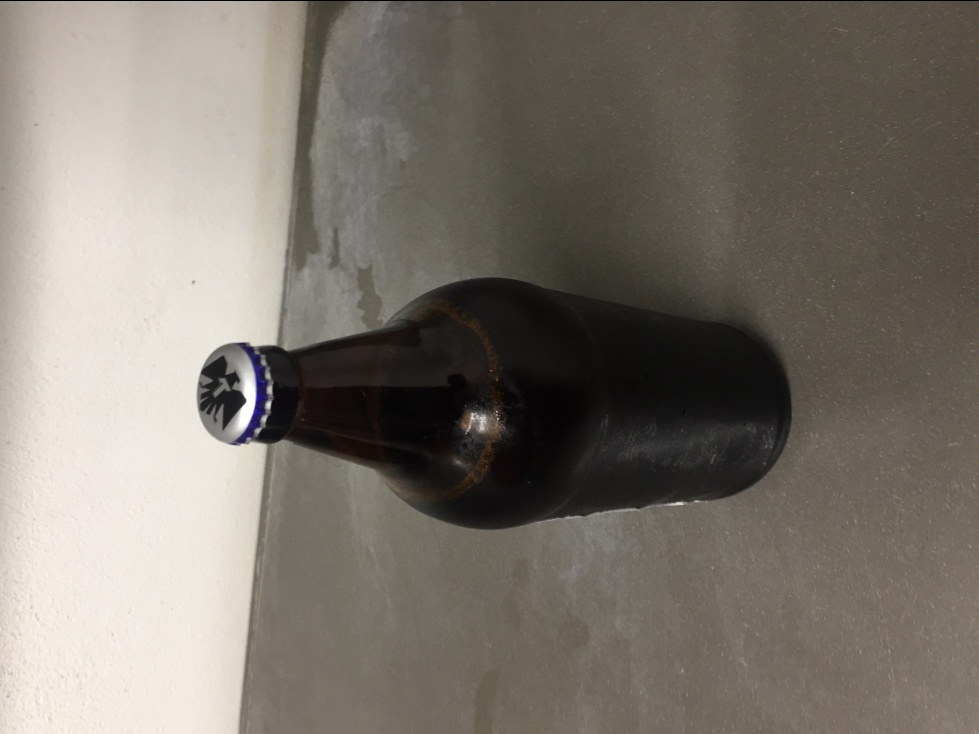tecateC: (192, 275, 796, 537)
